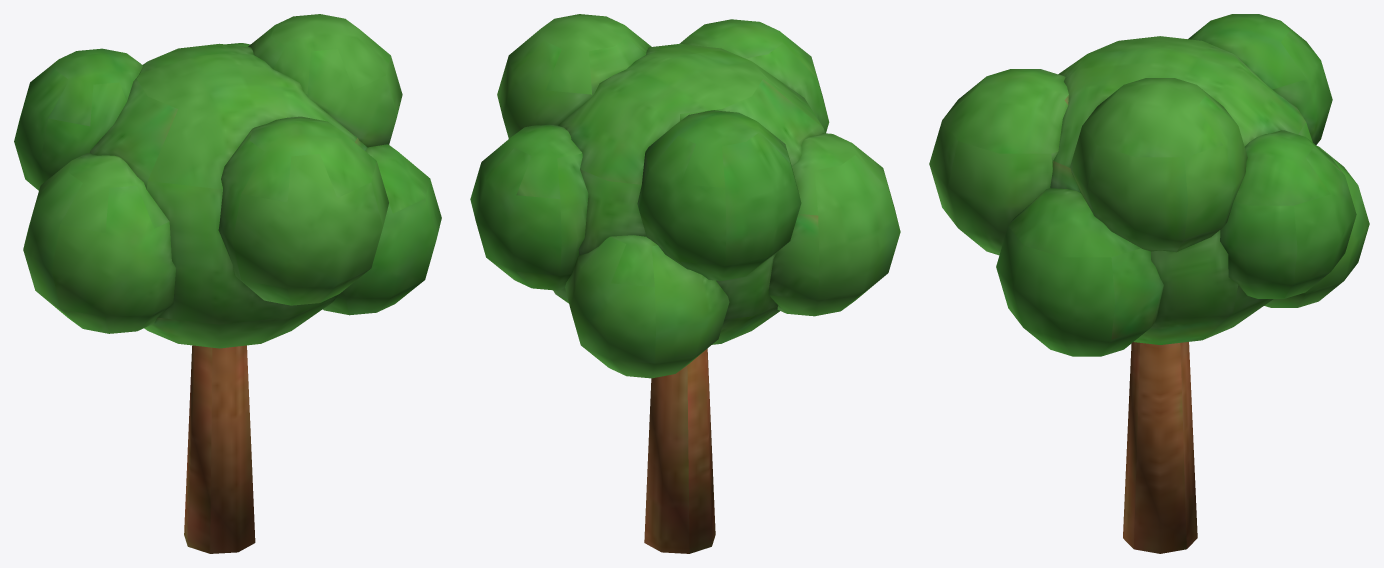
The model's file is forest_round.glb.
3 renders of one model, left to right at view 1: azimuth 30°, elevation 25°; view 2: azimuth 150°, elevation 25°; view 3: azimuth 270°, elevation 25°, orthographic.
Parts seen in each view (by area): view 1: forest_round; view 2: forest_round; view 3: forest_round.
Part boxes in pixels (x1=…): forest_round: x1=14, y1=14, x2=441, y2=553; forest_round: x1=470, y1=14, x2=900, y2=553; forest_round: x1=929, y1=14, x2=1369, y2=553.
Size of the model in its own units: 0.9176 by 1.18 by 0.9419.
Materials: 1 (1 with a texture image).
